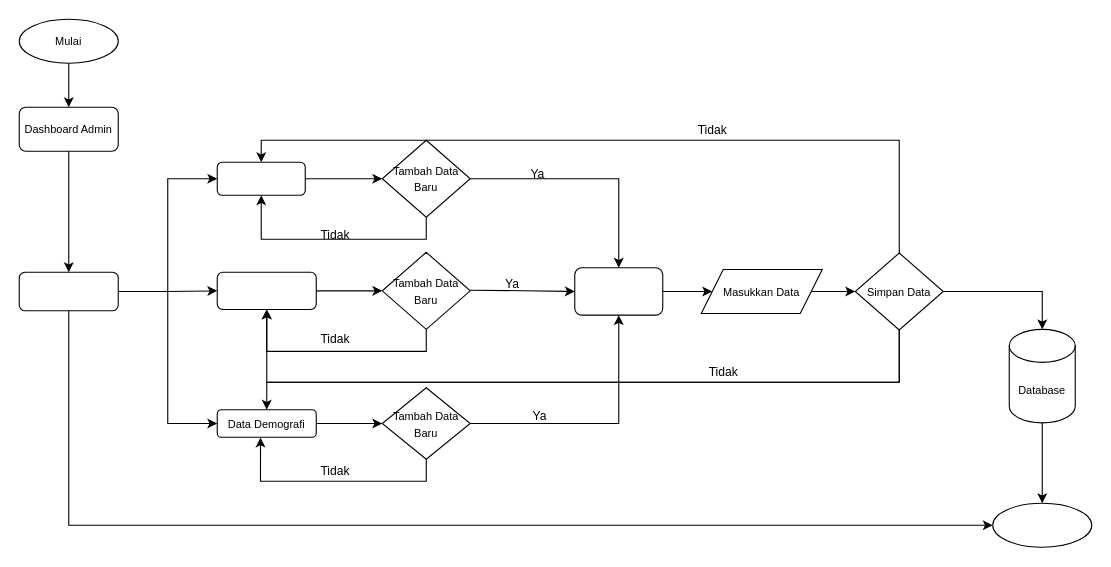
Image size: 1111x567. Some labels were removed from this diagram. Here are the shapes that lost their labels. From the top down, the centre of each, then its label:
At [260,178]: "Data Kasus".
At [68,291]: "Data Master".
At [266,290]: "Data Klimatologi".
At [618,291]: "Formulir Tambah Data".
At [1042,524]: "Selesai".
